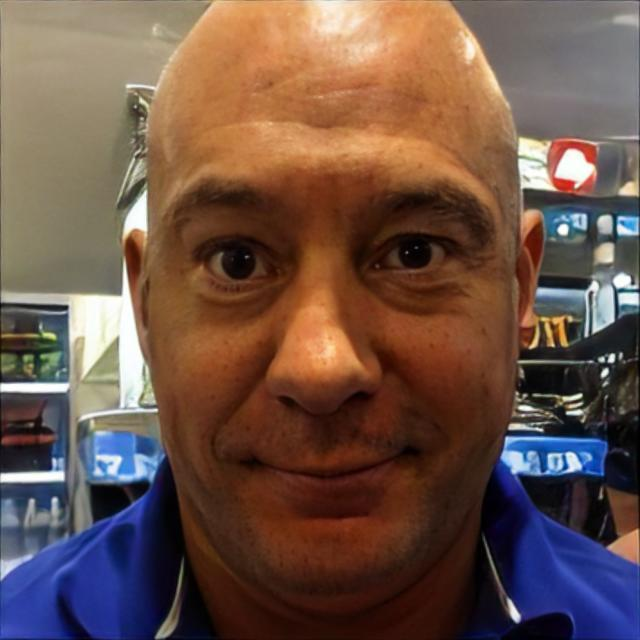content: (142, 0, 528, 599)
